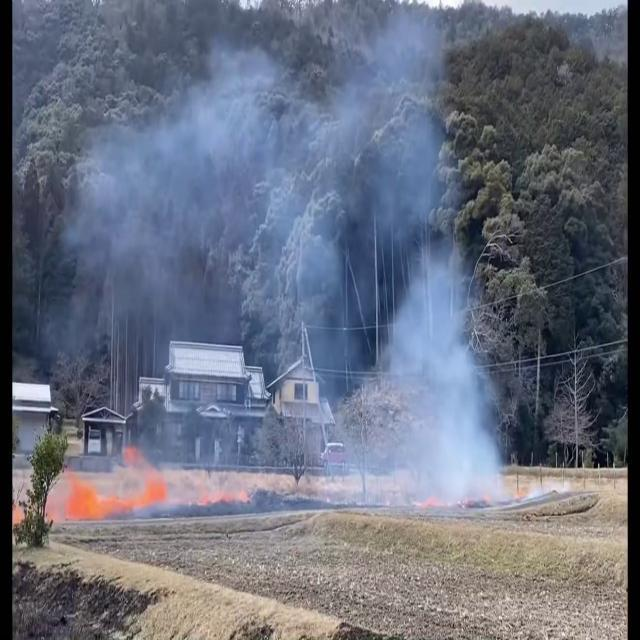Fire: (56, 470, 128, 522)
Smoke: (76, 1, 480, 344), (258, 237, 486, 524)
